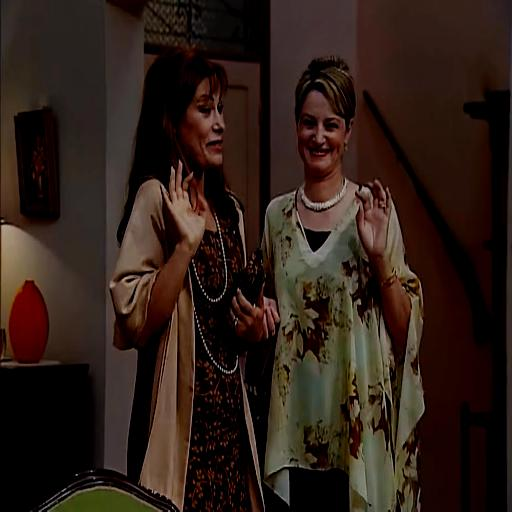zeineb: (161, 51, 226, 170)
